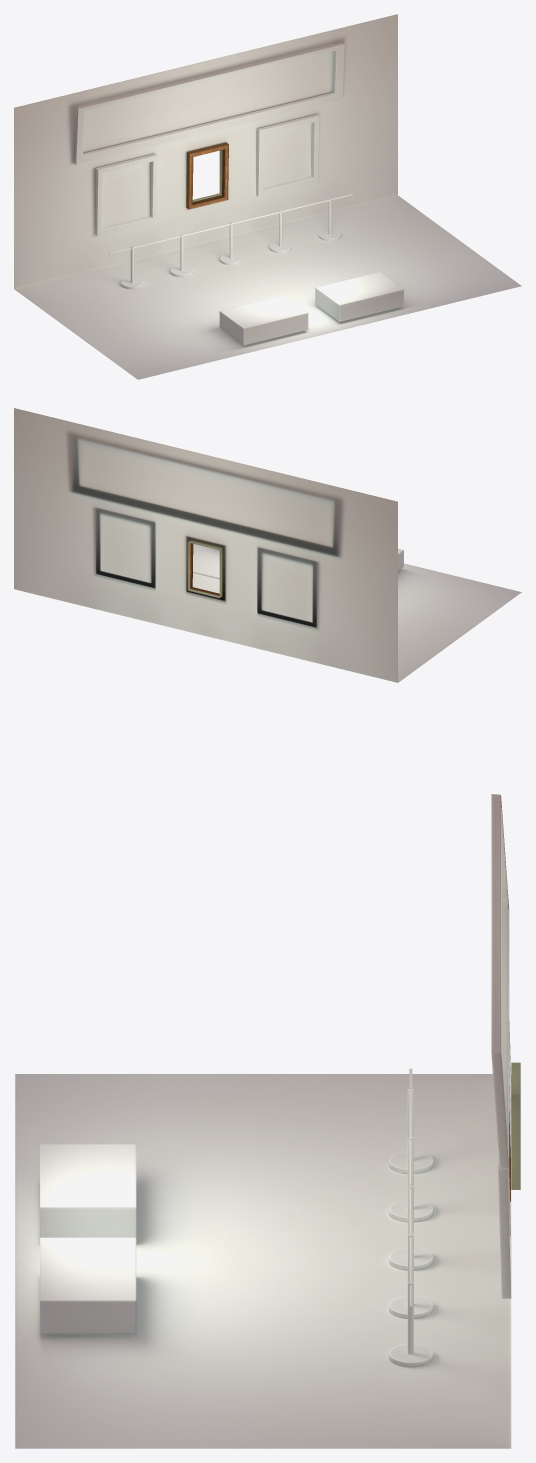
Rendered from louvre.glb.
3 renders of one model, top to bottom at view 1: azimuth 30°, elevation 25°; view 2: azimuth 150°, elevation 25°; view 3: azimuth 270°, elevation 25°, orthographic. The views are drawn at different scales.
Visible parts, largest first — view 1: Bake; view 2: Bake; view 3: Bake.
Part boxes in pixels (x1,y1,x2,y2): Bake: [14, 14, 521, 379]; Bake: [14, 408, 521, 682]; Bake: [15, 794, 520, 1448].
Size of the model in its own units: 11.92 by 5.38 by 6.79.
Materials: 2 (2 with a texture image).
